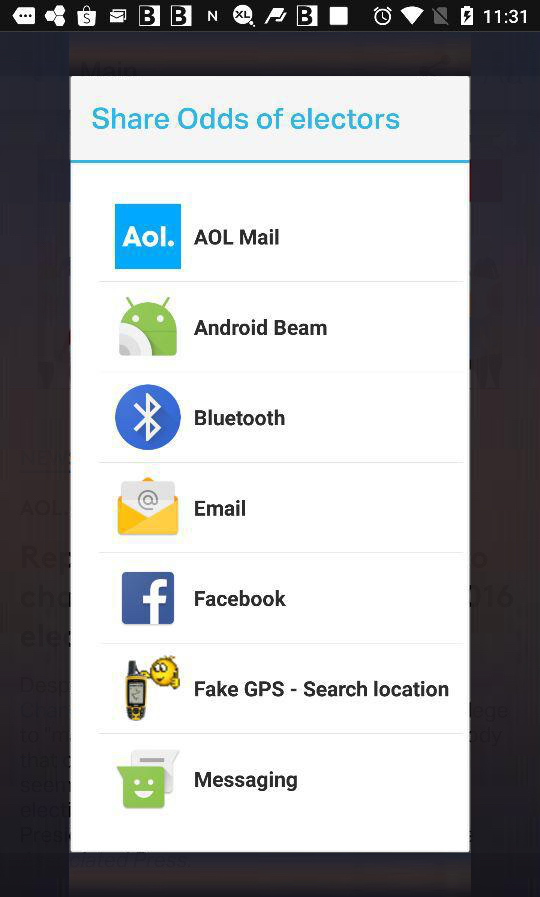Icon: (116, 385, 182, 451), (123, 572, 175, 625)
Image: (115, 205, 182, 270), (116, 750, 179, 809), (127, 655, 181, 721), (118, 477, 179, 534), (120, 297, 178, 356)
Modal: (70, 76, 471, 853)
Text: (89, 108, 400, 130), (195, 681, 449, 697), (194, 319, 328, 336), (195, 771, 298, 791), (196, 409, 286, 427), (195, 590, 286, 607), (194, 229, 280, 246), (195, 500, 246, 517)
UpperTaskBar: (1, 1, 540, 33)
